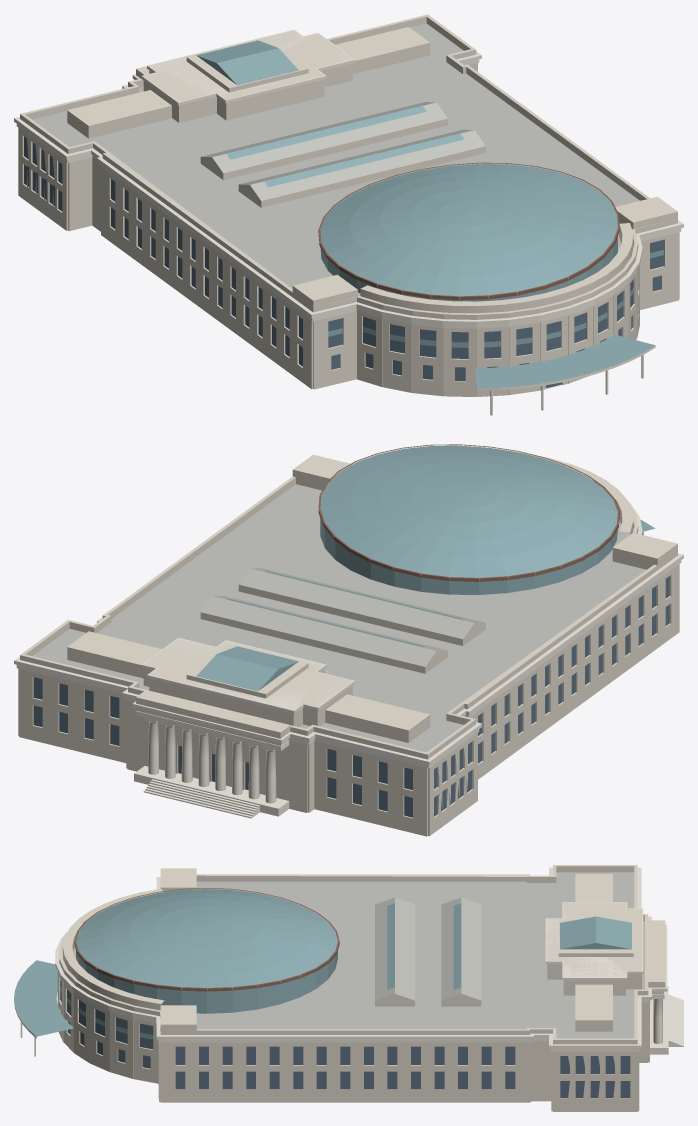
File: auckland-war-memorial-museum.glb
3 renders of one model, top to bottom at view 1: azimuth 30°, elevation 25°; view 2: azimuth 150°, elevation 25°; view 3: azimuth 270°, elevation 25°, orthographic. The views are drawn at different scales.
Visible parts, largest first — view 1: Auckland War Memorial Museum; view 2: Auckland War Memorial Museum; view 3: Auckland War Memorial Museum.
Part boxes in pixels (bbox=[...]): Auckland War Memorial Museum: bbox=[14, 14, 683, 415]; Auckland War Memorial Museum: bbox=[14, 444, 683, 836]; Auckland War Memorial Museum: bbox=[14, 865, 683, 1111].
Bounding box in the file's own units: 88.8 × 23 × 141.
